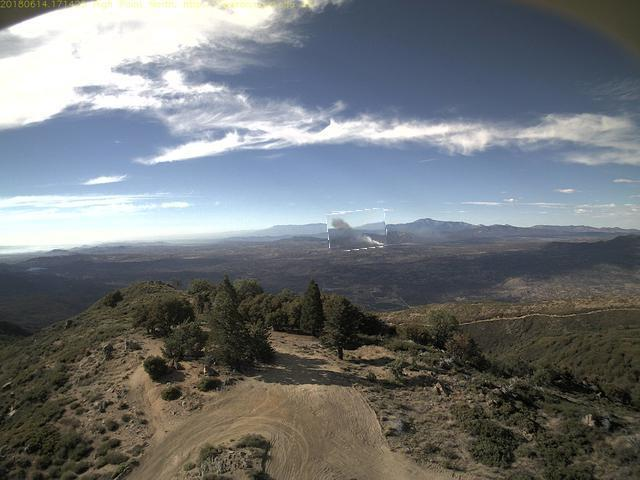smoke: (328, 211, 388, 252)
